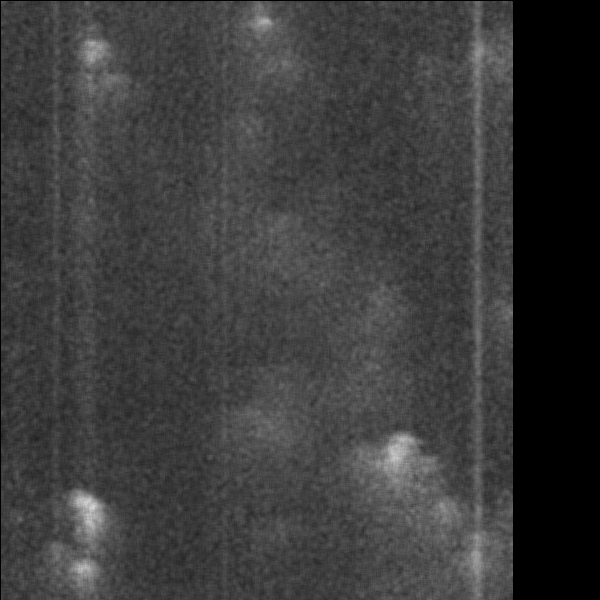spark: (366, 436, 430, 549), (62, 489, 117, 599), (211, 392, 275, 454), (262, 46, 307, 79), (244, 10, 278, 34)
